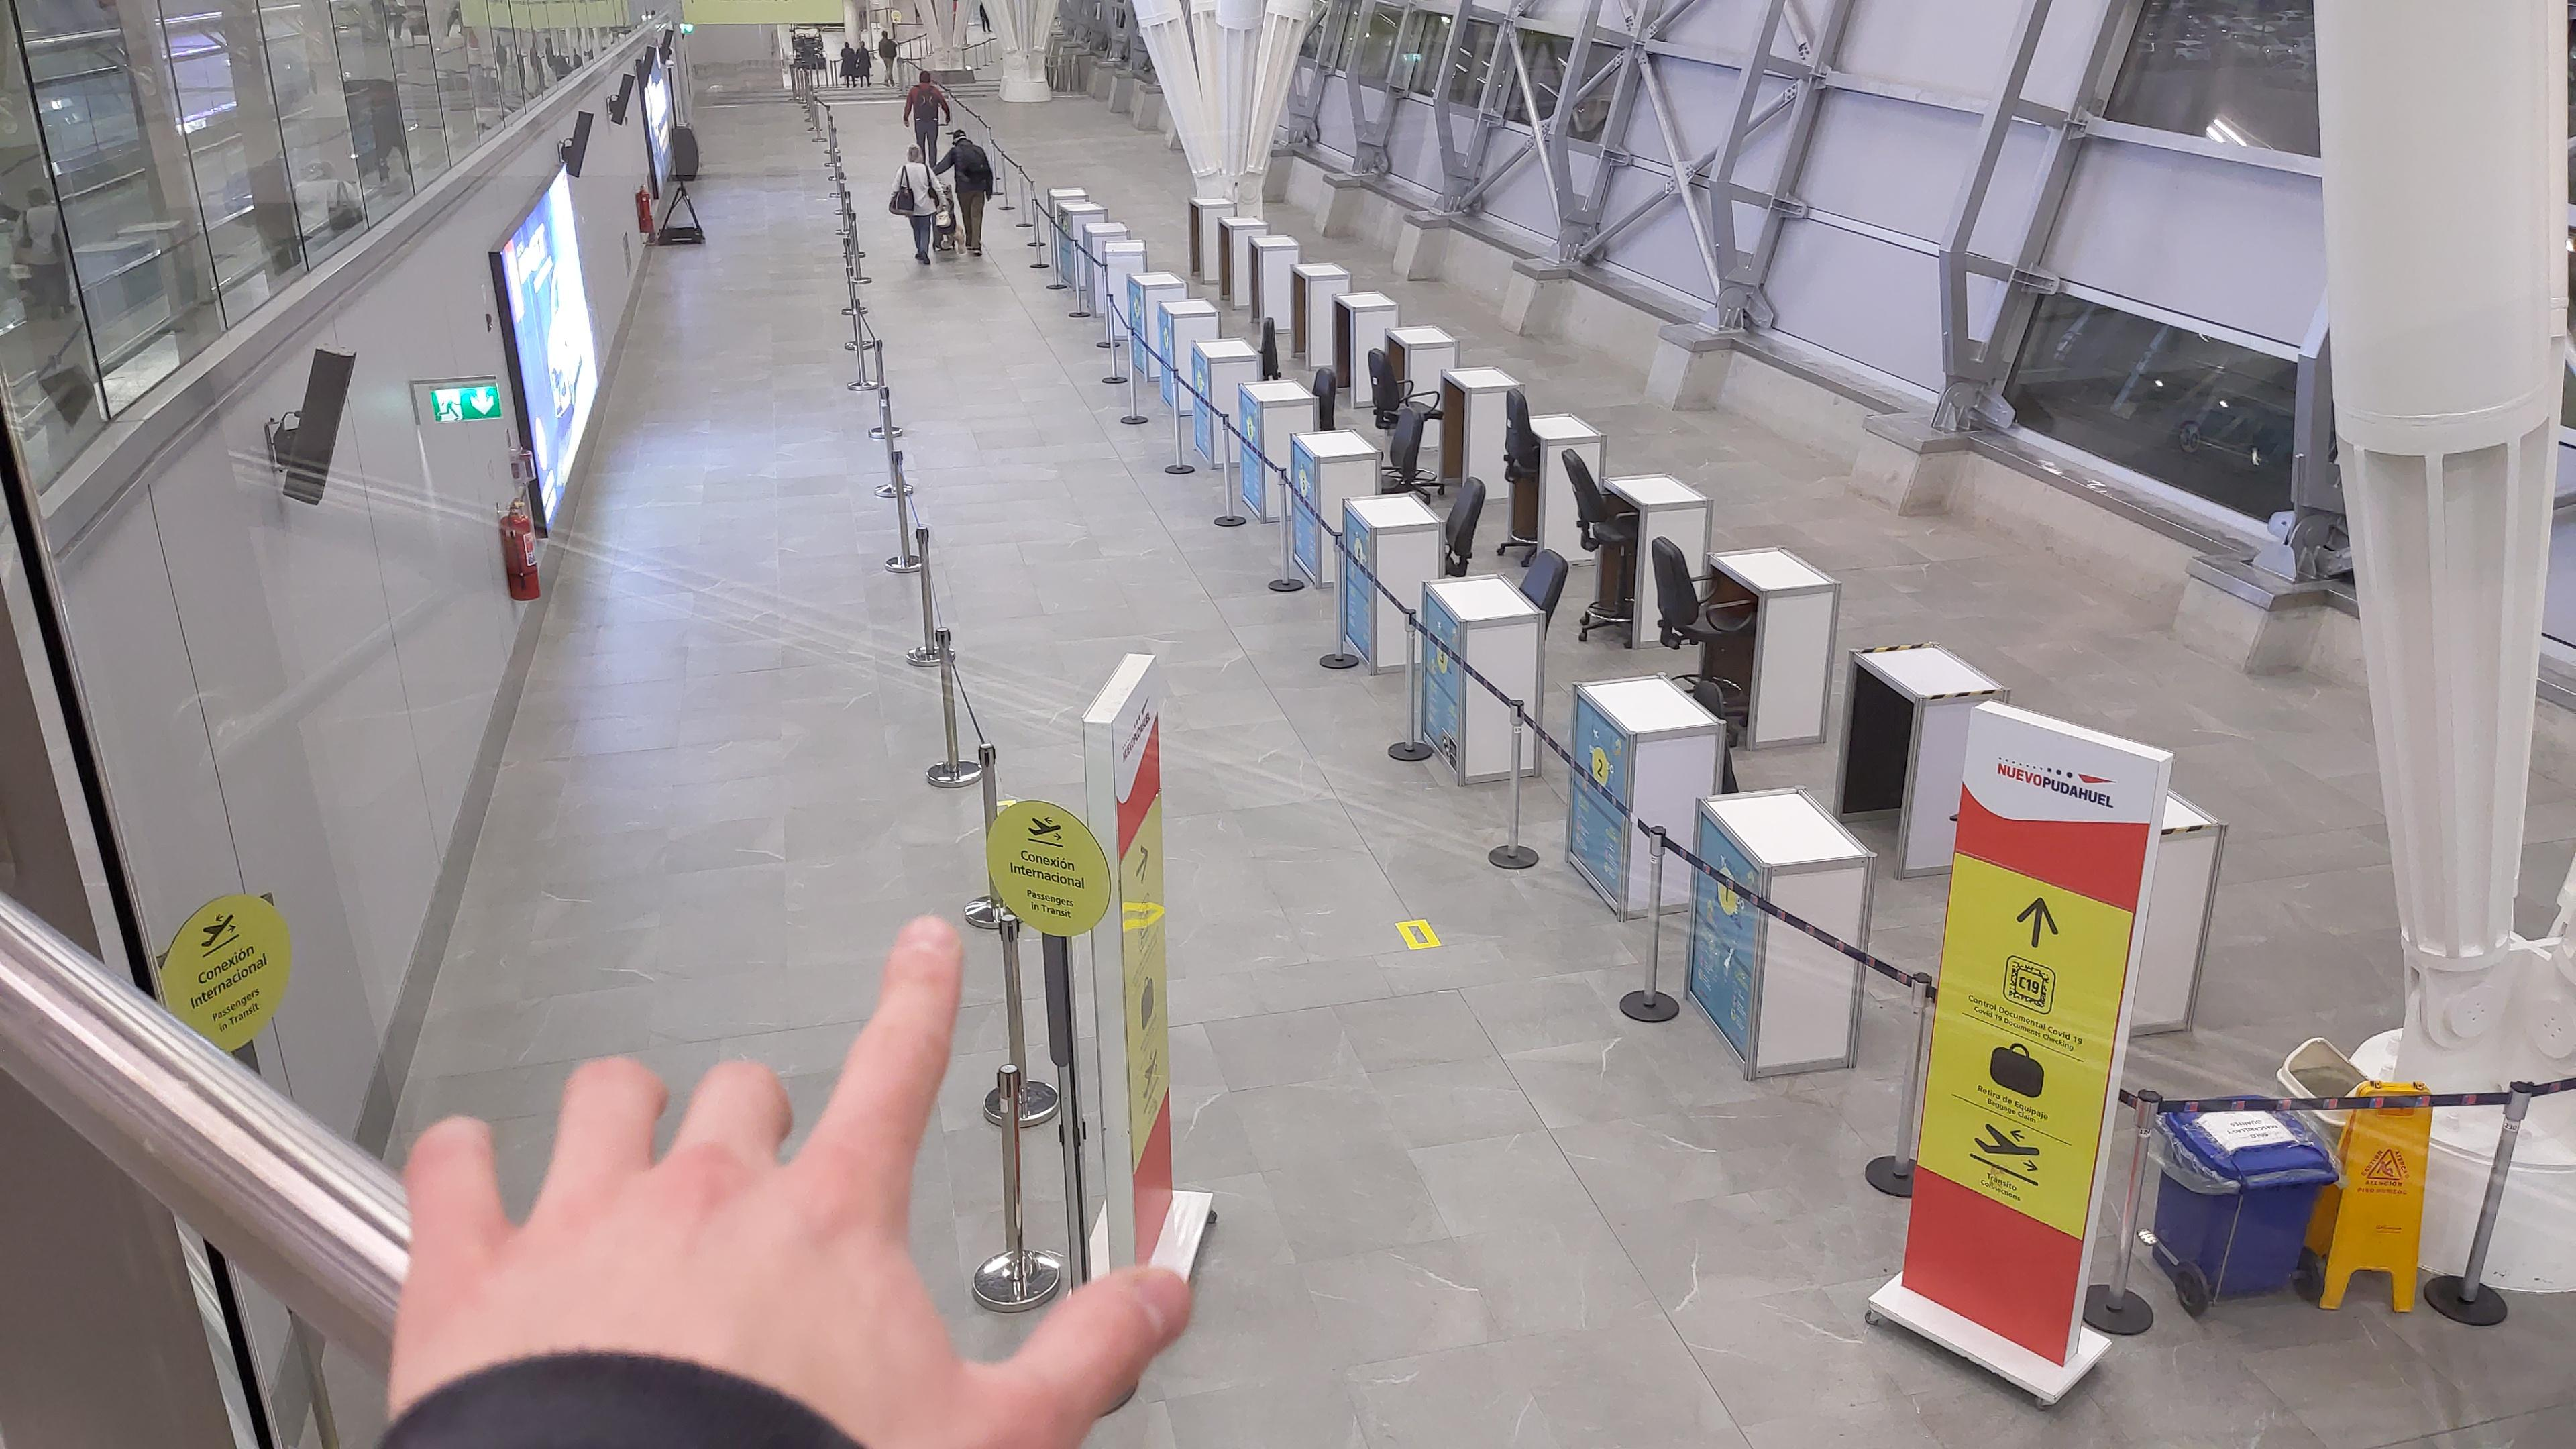airplane symbol: (1969, 1120, 2049, 1161), (198, 911, 239, 950), (1024, 814, 1067, 842)
baggage claim: (1985, 1039, 2049, 1100), (1138, 975, 1157, 1030)
emergency down arrow: (467, 387, 495, 418)
emergency exit: (435, 389, 464, 423)
fire-extinguisher: (495, 494, 543, 603), (632, 182, 656, 237)
thin up arrow: (2015, 893, 2061, 950)
